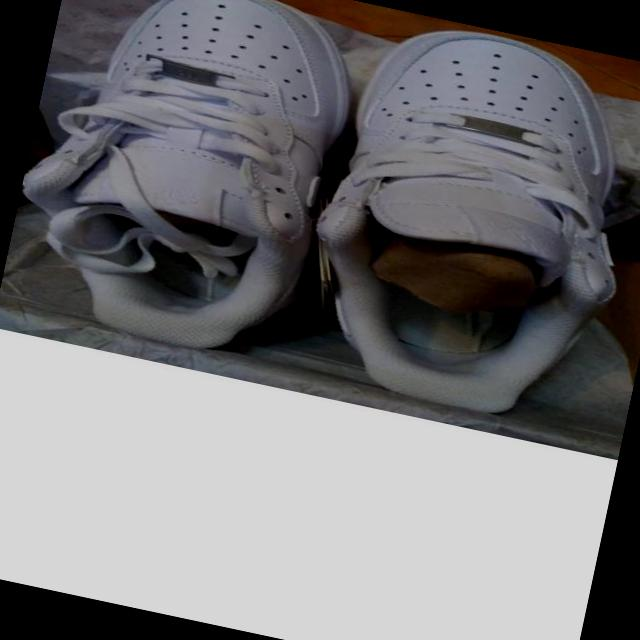nike_original_airforce: (279, 2, 640, 453), (0, 0, 385, 386)
